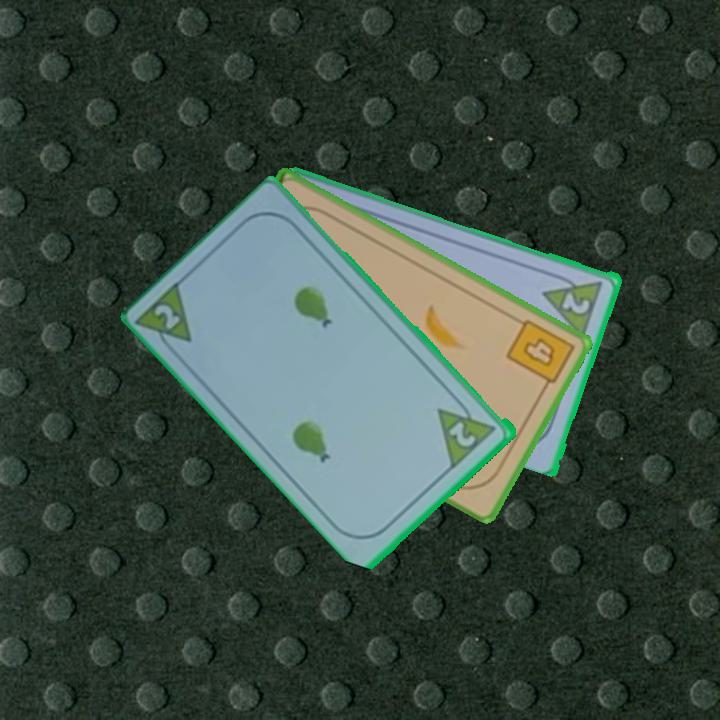2p: (434, 391, 500, 470), (135, 276, 196, 361), (558, 288, 593, 317)
4b: (502, 315, 578, 395)
